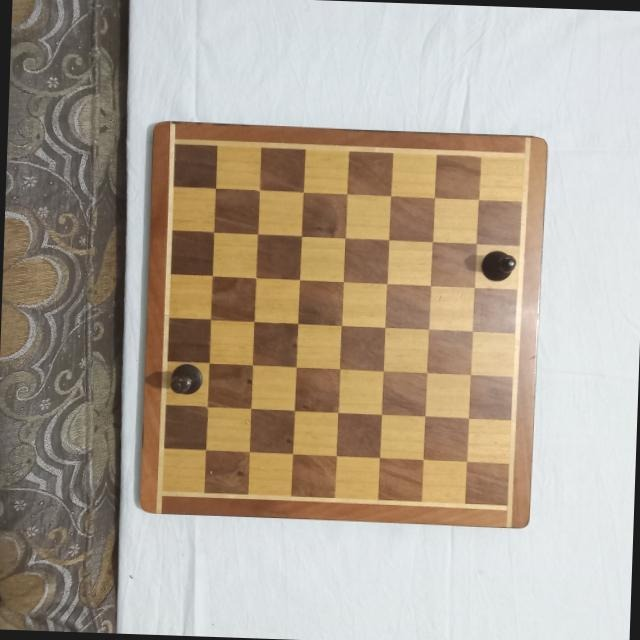black-bishop: (478, 248, 517, 283), (168, 361, 203, 395)
